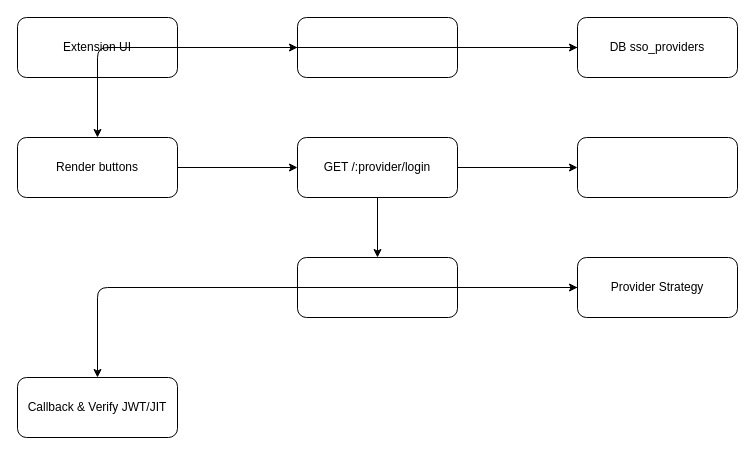
This 755x455 diagram has some shape labels left out. Here are the shapes that lost their labels. From the top down, the box of each, then its label:
(296, 16, 458, 78): GET /sso/providers
(576, 136, 738, 198): SsoStrategyRegistry.has()
(296, 256, 458, 318): Redirect /auth/:provider/login
